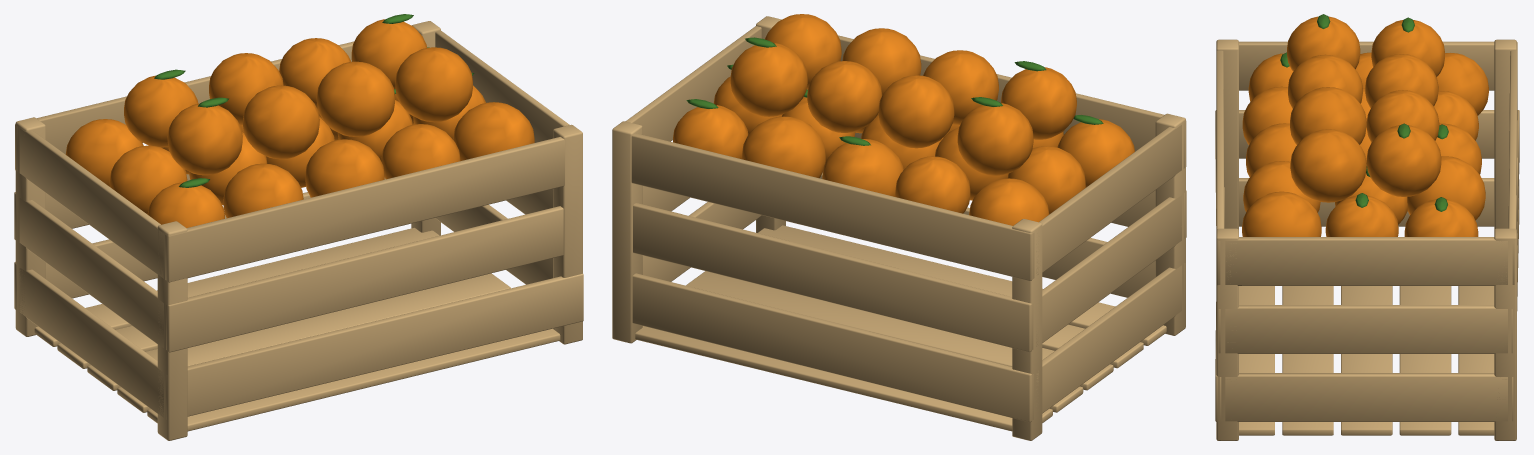
Rendered from prop_cajon.glb.
3 views of the same model, side by side, from view 1: azimuth 30°, elevation 25°; view 2: azimuth 150°, elevation 25°; view 3: azimuth 270°, elevation 25° (orthographic). The views are drawn at different scales.
Visible parts, largest first — view 1: prop_cajon; view 2: prop_cajon; view 3: prop_cajon.
Boxes of the visible parts, box(x1,y1,x2,y2) form: prop_cajon: box(14, 14, 583, 440); prop_cajon: box(612, 14, 1186, 440); prop_cajon: box(1215, 14, 1519, 440).
Bounding box in the file's own units: 0.5 × 0.3195 × 0.3242.
